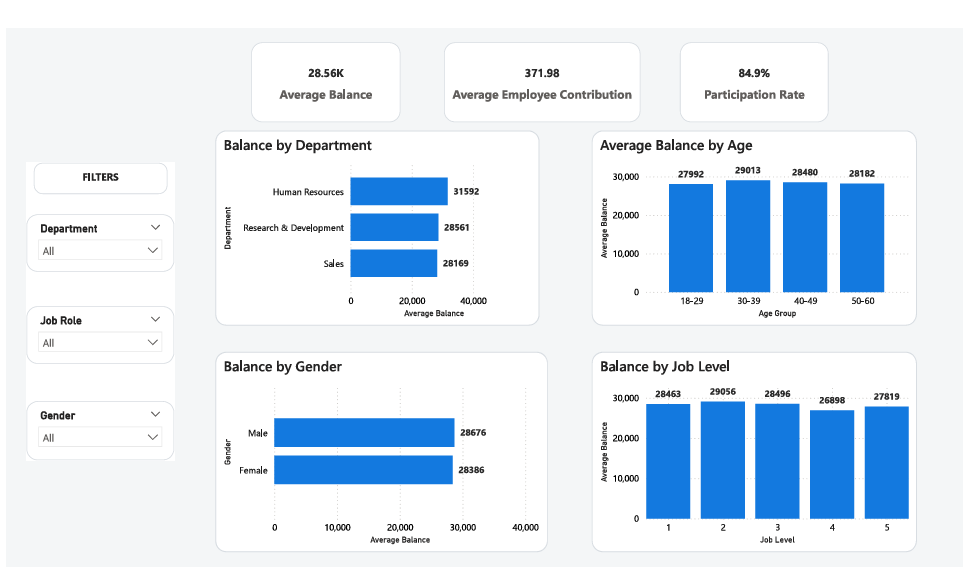

The dashboard page shown, as its layout file describes it:
{"tool":"powerbi","page":{"name":"Financial Wellbeing by Employee Segment","canvas":[1280,720],"ordinal":1},"visuals":[{"type":"barChart","title":"Balance by Department","fields":{"Y":["fact_balance_monthly.Avg Balance"],"Category":["dim_employee.department"]},"box":[278.8,135.9,434.7,260.8],"z":0},{"type":"textbox","box":[35.9,179,179.1,41.8],"z":0,"group":"g2"},{"type":"columnChart","title":"Average Balance by Age","fields":{"Category":["dim_employee.Age Group"],"Y":["fact_balance_monthly.Avg Balance"]},"box":[783.4,135.9,434.7,260.8],"z":1000},{"type":"group","id":"g1","title":"Group 1","box":[26,247.8,197.8,328.7],"z":1000,"group":"g2"},{"type":"clusteredBarChart","title":"Balance by Gender","fields":{"Y":["fact_balance_monthly.Avg Balance"],"Category":["dim_employee.gender"]},"box":[278.8,431.7,445.7,268.8],"z":2000},{"type":"columnChart","title":"Balance by Job Level","fields":{"Category":["dim_employee.job_level"],"Y":["fact_balance_monthly.Average Balance"]},"box":[783.4,431.7,434.7,268.8],"z":3000},{"type":"slicer","fields":{"Values":["dim_employee.department"]},"box":[26,247.8,197.8,76.9],"z":4000,"group":"g1"},{"type":"card","fields":{"Values":["fact_balance_monthly.Avg Balance"]},"box":[326.7,18,199.8,106.9],"z":5000},{"type":"slicer","fields":{"Values":["dim_employee.gender"]},"box":[26,497.6,197.8,78.9],"z":5000,"group":"g1"},{"type":"card","fields":{"Values":["fact_contribution_monthly.Participation Rate"]},"box":[901.3,18,198.8,106.9],"z":6000},{"type":"slicer","fields":{"Values":["dim_employee.job_role"]},"box":[26,370.7,197.8,76.9],"z":6000,"group":"g1"},{"type":"card","fields":{"Values":["fact_contribution_monthly.Average Employee Contribution"]},"box":[584.5,18,263.8,106.9],"z":7000},{"type":"group","id":"g2","title":"Group 2","box":[26,179,197.8,397.5],"z":8000}]}

Visuals, with their boxes on the page's 1280x720 design canvas (x1, y1, x2, y2). These are canvas units, not pixel positions in the 973x573 screenshot, which may show the page scaled, cropped or inside an application window:
"Balance by Department" barChart: [279,136,714,397]
textbox: [36,179,215,221]
"Average Balance by Age" columnChart: [783,136,1218,397]
"Group 1" group: [26,248,224,576]
"Balance by Gender" clusteredBarChart: [279,432,724,700]
"Balance by Job Level" columnChart: [783,432,1218,700]
slicer - dim_employee.department: [26,248,224,325]
card - fact_balance_monthly.Avg Balance: [327,18,526,125]
slicer - dim_employee.gender: [26,498,224,576]
card - fact_contribution_monthly.Participation Rate: [901,18,1100,125]
slicer - dim_employee.job_role: [26,371,224,448]
card - fact_contribution_monthly.Average Employee Contribution: [584,18,848,125]
"Group 2" group: [26,179,224,576]
